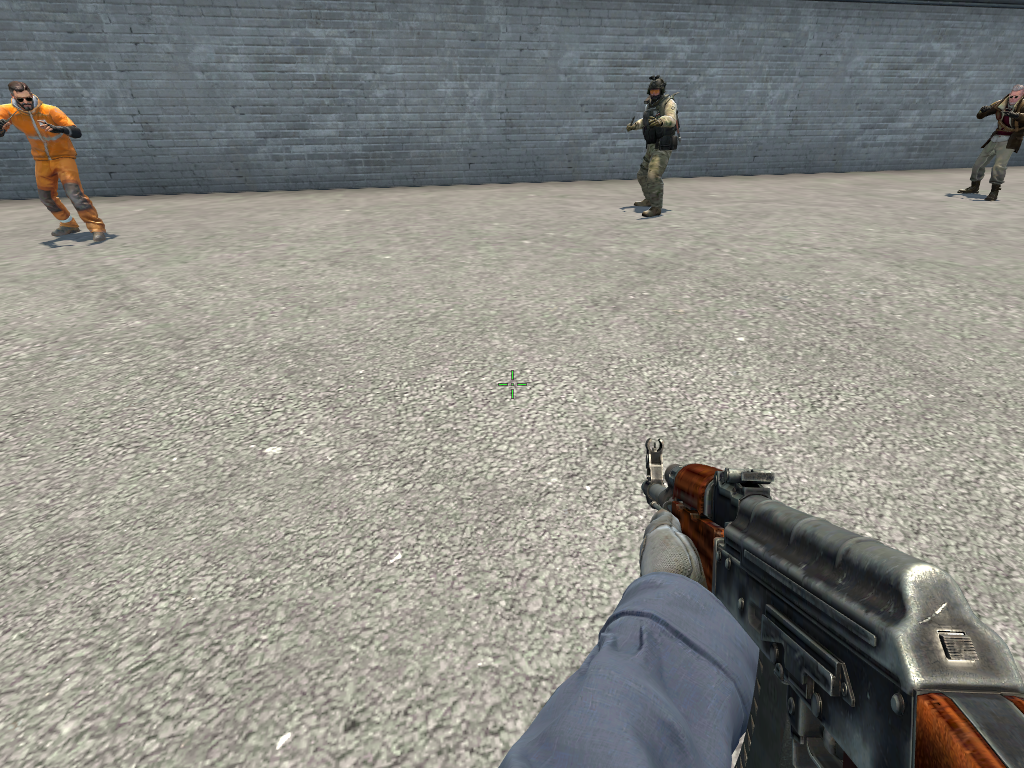ct head: (649, 79, 664, 101)
tr head: (14, 82, 32, 111), (1010, 85, 1024, 107)
